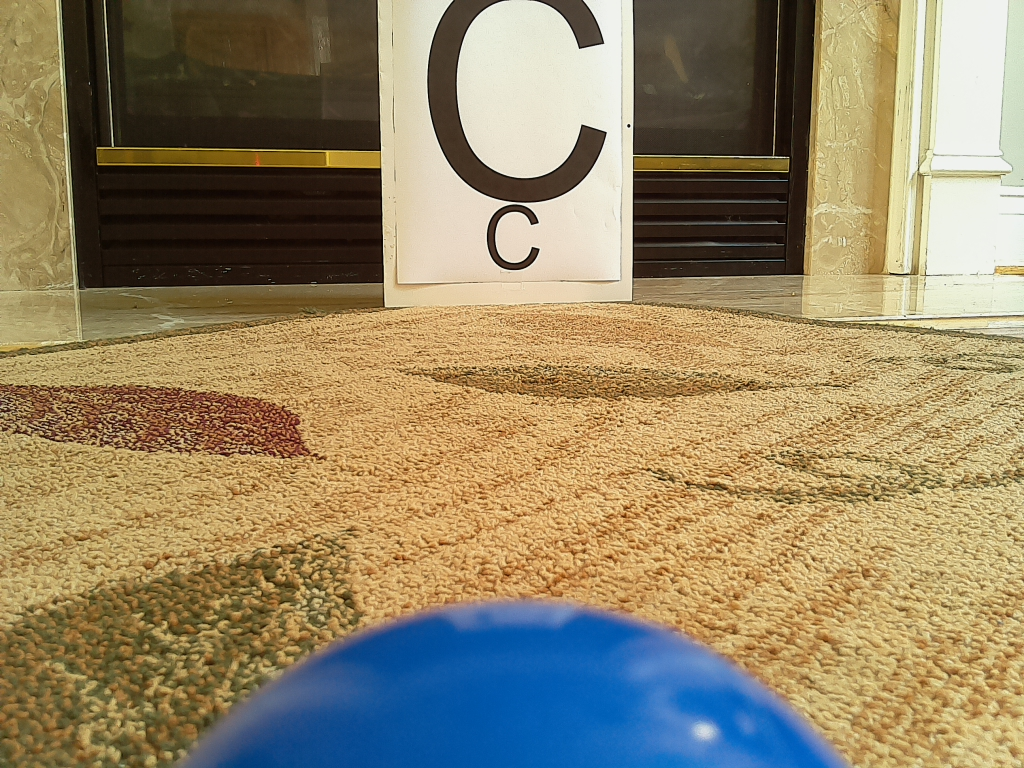letter: (427, 1, 608, 203)
